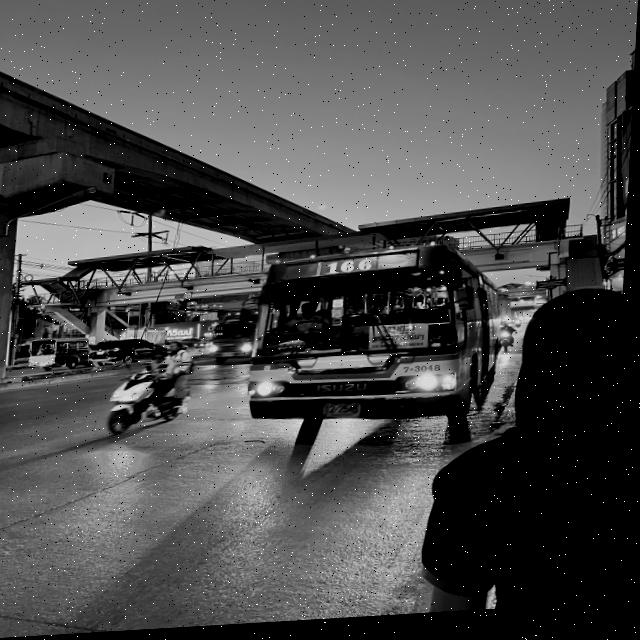BMTA-bus: (248, 248, 506, 457)
Bus-Line-Number: (322, 263, 378, 280)
Destination-Sign-Normal-Expressway: (373, 327, 434, 356)
